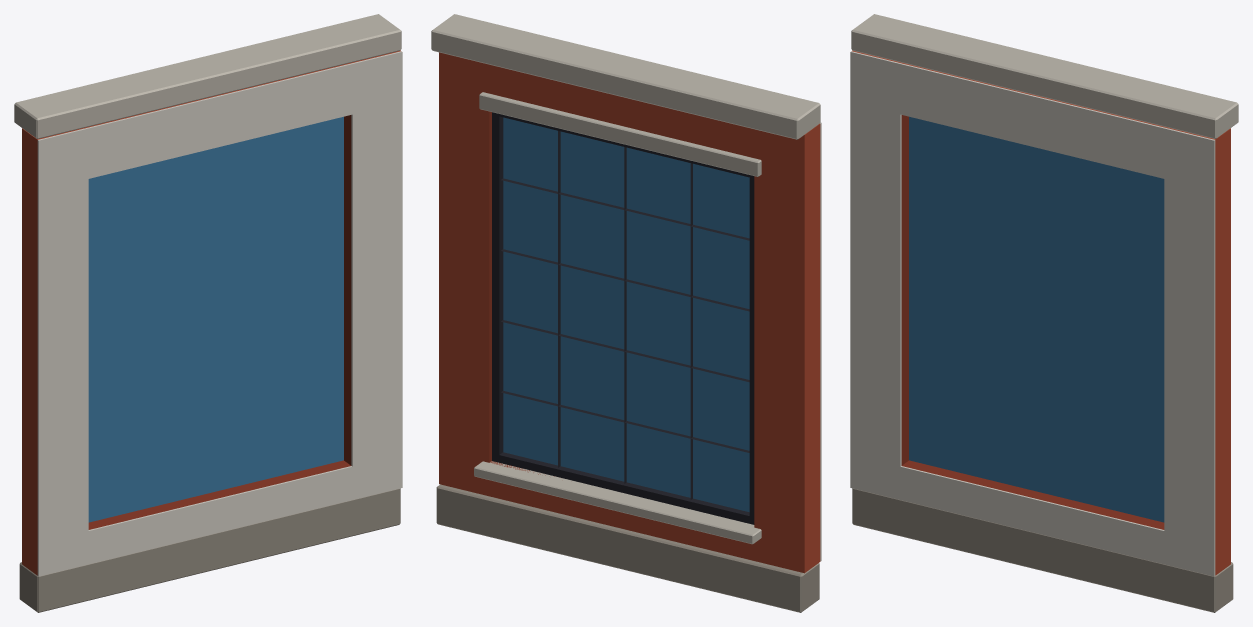
The model's file is hall_window_wall.glb.
3 renders of one model, left to right at view 1: azimuth 30°, elevation 25°; view 2: azimuth 150°, elevation 25°; view 3: azimuth 330°, elevation 25°, orthographic.
Visible parts, largest first — view 1: wall; view 2: wall; view 3: wall.
Boxes of the visible parts, x1=… form: wall: x1=14, y1=14, x2=402, y2=612; wall: x1=431, y1=14, x2=821, y2=612; wall: x1=850, y1=14, x2=1238, y2=612.
Size of the model in its own units: 4.02 by 5.2 by 0.48.
